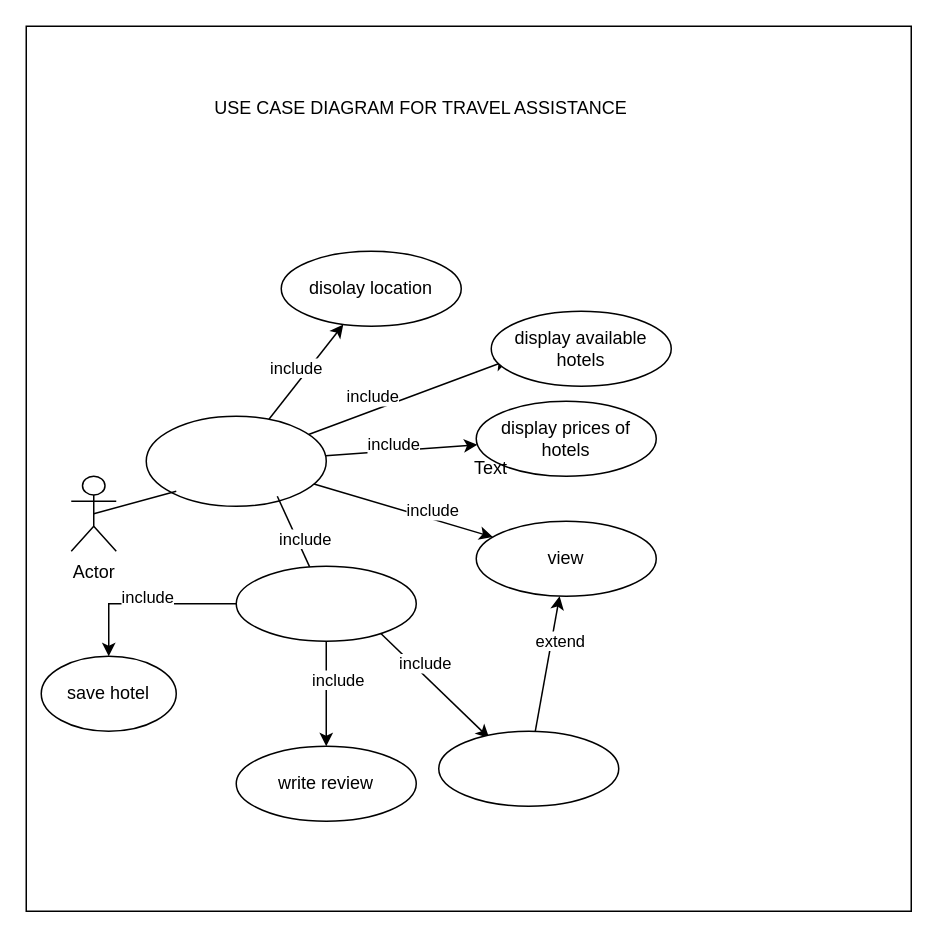
This 938x938 diagram has some shape labels left out. The centre of each missing label's shape, as x and y in pixels:
"enter budget" belongs at [325,603].
"make booking" belongs at [528,768].
"travel assistance" belongs at [235,460].
